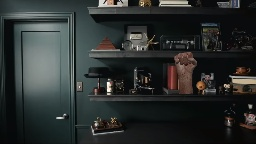Pugno: (172, 50, 198, 78)
